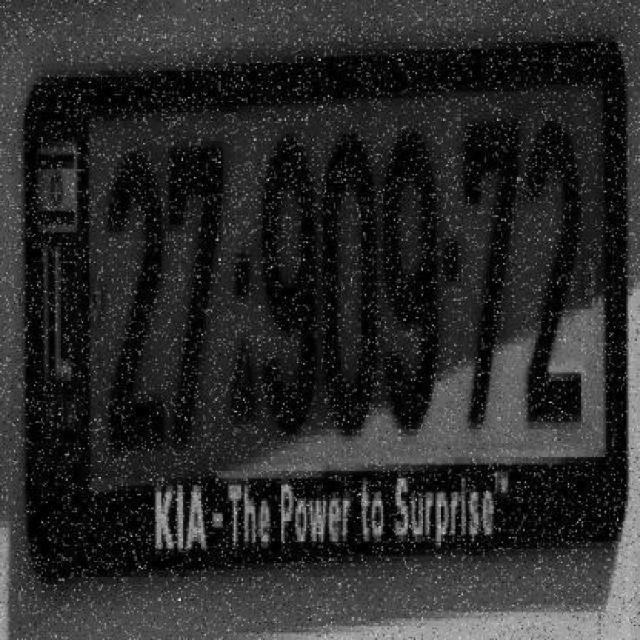licenseplate: (12, 21, 637, 592)
